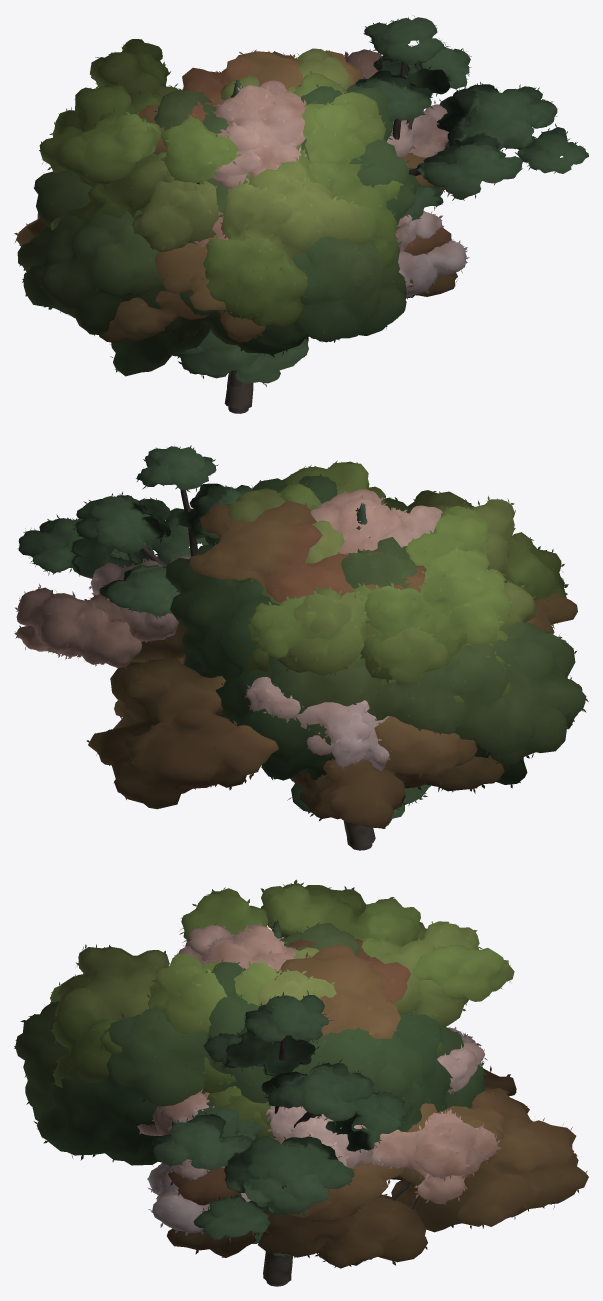
Rendered from forest-ultra.glb.
3 renders of one model, top to bottom at view 1: azimuth 30°, elevation 25°; view 2: azimuth 150°, elevation 25°; view 3: azimuth 270°, elevation 25°, orthographic. The views are drawn at different scales.
Visible parts, largest first — view 1: kashi_near, konara_near, pine_near, keyaki_near, cherry_near, momiji_near, hinoki_near; view 2: momiji_near, kashi_near, cherry_near, konara_near, keyaki_near, pine_near, hinoki_near; view 3: momiji_near, kashi_near, pine_near, keyaki_near, cherry_near, konara_near.
Boxes of the visible parts, <box> form: kashi_near: <box>17,83,418,411</box>; konara_near: <box>49,48,400,411</box>; pine_near: <box>224,15,588,408</box>; keyaki_near: <box>39,39,403,409</box>; cherry_near: <box>193,49,469,412</box>; momiji_near: <box>14,49,457,413</box>; hinoki_near: <box>170,81,308,386</box>; momiji_near: <box>86,500,577,850</box>; kashi_near: <box>165,474,588,848</box>; cherry_near: <box>14,486,442,848</box>; konara_near: <box>225,488,568,848</box>; keyaki_near: <box>247,460,512,702</box>; pine_near: <box>18,445,375,847</box>; hinoki_near: <box>287,504,430,828</box>; momiji_near: <box>167,939,588,1286</box>; kashi_near: <box>14,922,487,1180</box>; pine_near: <box>150,990,408,1284</box>; keyaki_near: <box>99,879,514,1137</box>; cherry_near: <box>137,922,501,1283</box>; konara_near: <box>50,921,479,1137</box>.
Bounding box in the file's own units: 1.78 × 1.11 × 1.54.
